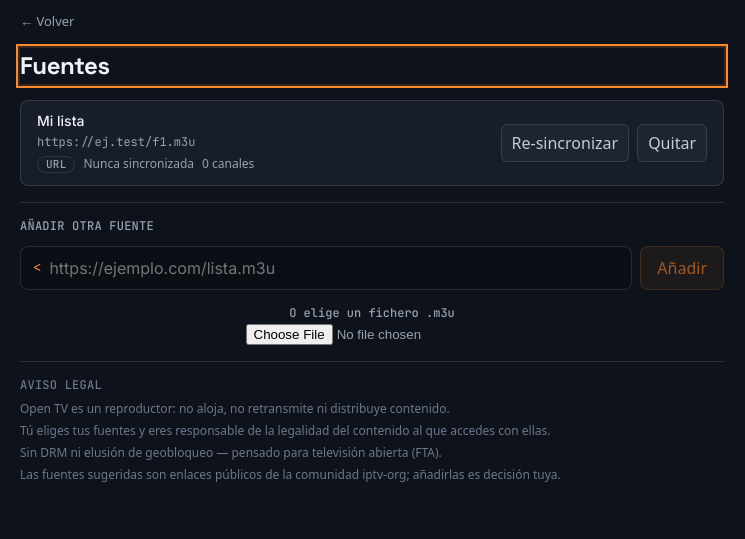
Test: Fuentes — quitar (confirmación en dos pasos) › F6: un quitarFuente() fallido muestra un error visible (no un rechazo sin manejar) y NO notifica alFuentesCambiaron
Click the button "Quitar" at coordinates (672, 143), box [637,124,707,162]
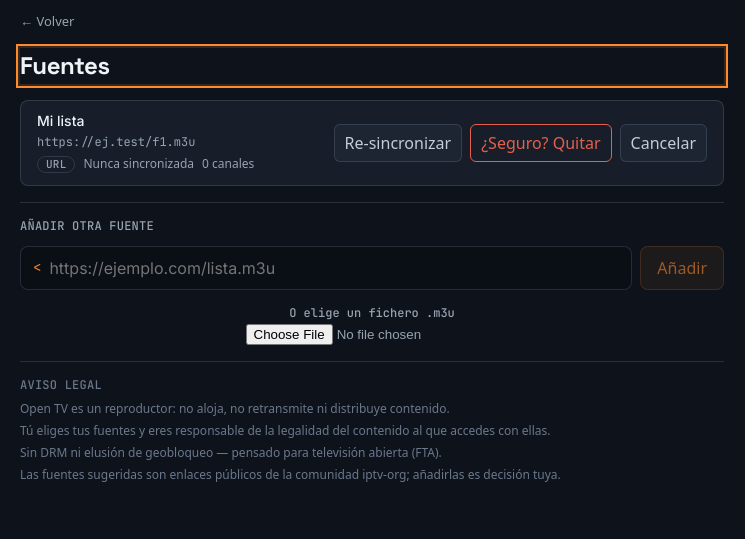
Click the button "¿Seguro? Quitar" at coordinates (541, 143), box [470,124,612,162]
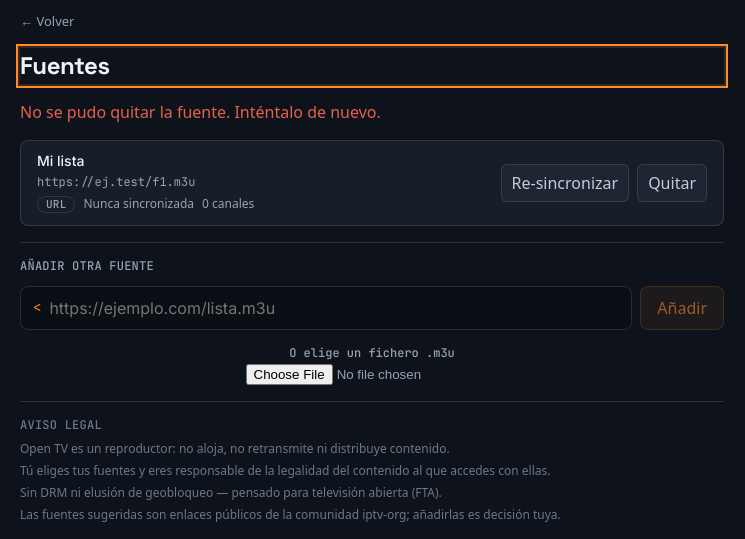
Expected: the text "Mi lista" is shown, [37,152,84,168]
Now the text "No se pudo quitar la fuente. Inténtalo de nuevo." is shown, box [20,100,381,122]
